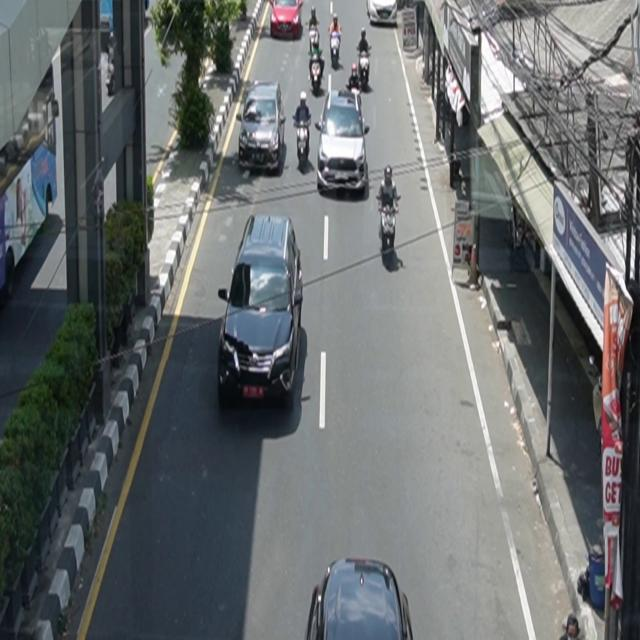car: (306, 558, 415, 640), (316, 88, 371, 196), (239, 80, 287, 174), (270, 1, 304, 40), (367, 1, 398, 26)
